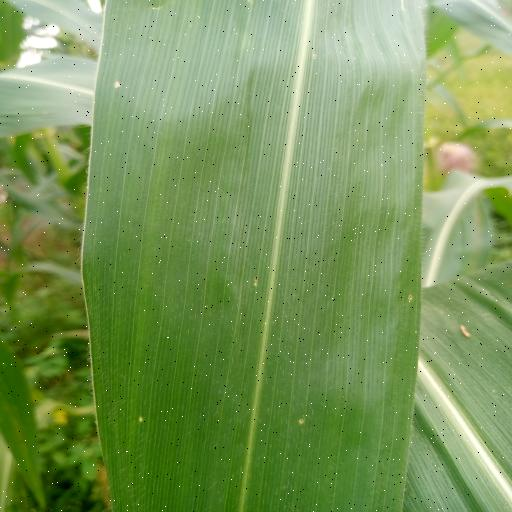Corn_Chlorotic_Leaf_Spot: (79, 0, 438, 512)
